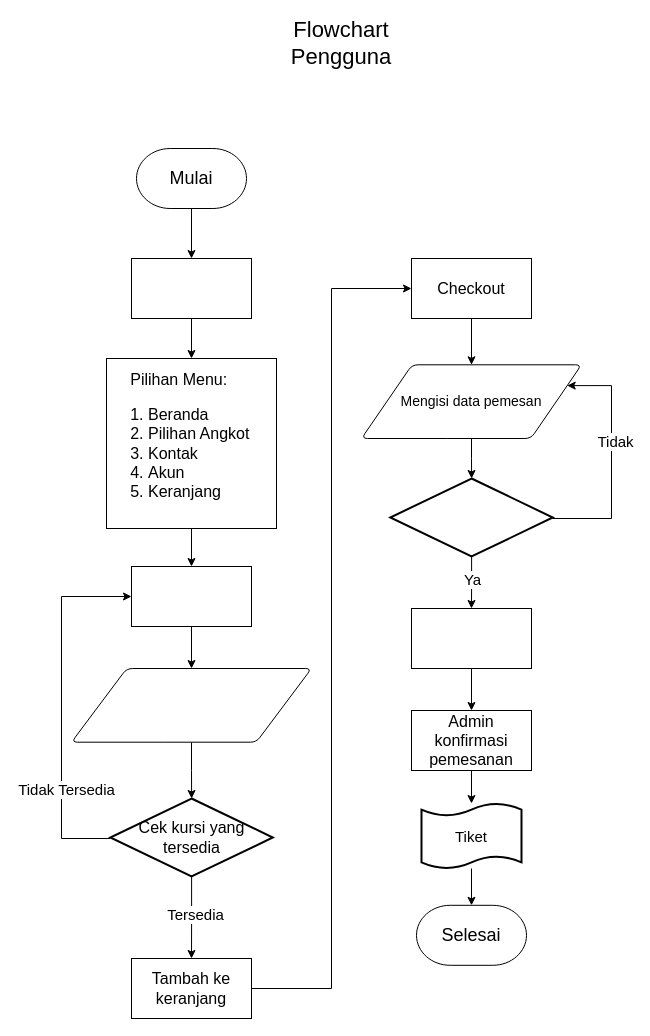
This 650x1036 diagram has some shape labels left out. Each missing label, with the centre of its shape:
"Halaman Pengguna" belongs at [191,288].
"Melakukan pembayaran" belongs at [471,638].
"Memilih titik berangkat-tujuan & jadwal" belongs at [191,705].
"Pemesanan tiket" belongs at [191,596].
"Punya Akun" belongs at [471,517].
